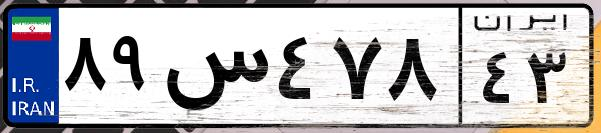3: (525, 38, 570, 115)
4: (270, 28, 330, 110), (475, 38, 525, 113)
7: (330, 28, 385, 110)
8: (385, 28, 445, 110), (57, 26, 110, 100)
9: (110, 28, 158, 98)
س: (158, 20, 270, 120)
